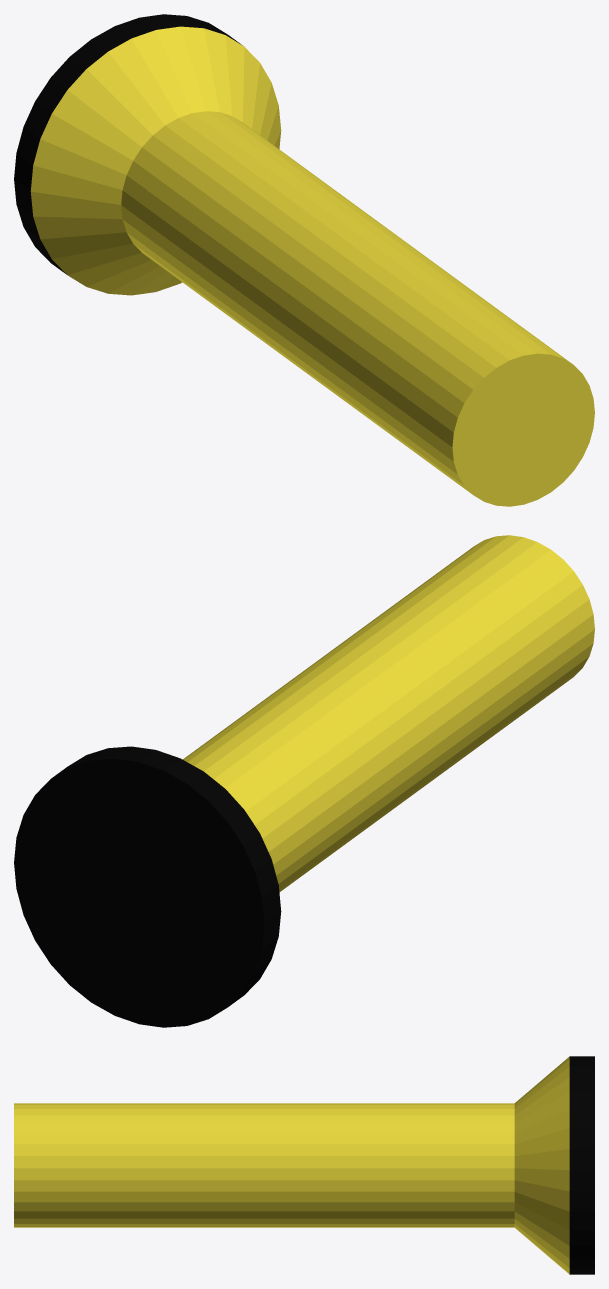
File: torch.glb
3 views of the same model, one above another, from view 1: azimuth 30°, elevation 25°; view 2: azimuth 150°, elevation 25°; view 3: azimuth 270°, elevation 25° (orthographic). The views are drawn at different scales.
Visible parts, largest first — view 1: Cylinder; view 2: Cylinder; view 3: Cylinder.
Boxes of the visible parts, x1,y1,x2,y2 form: Cylinder: (14, 14, 594, 506); Cylinder: (14, 535, 594, 1027); Cylinder: (14, 1056, 594, 1274).
Size of the model in its own units: 0.2499 by 0.2499 by 0.6645.
